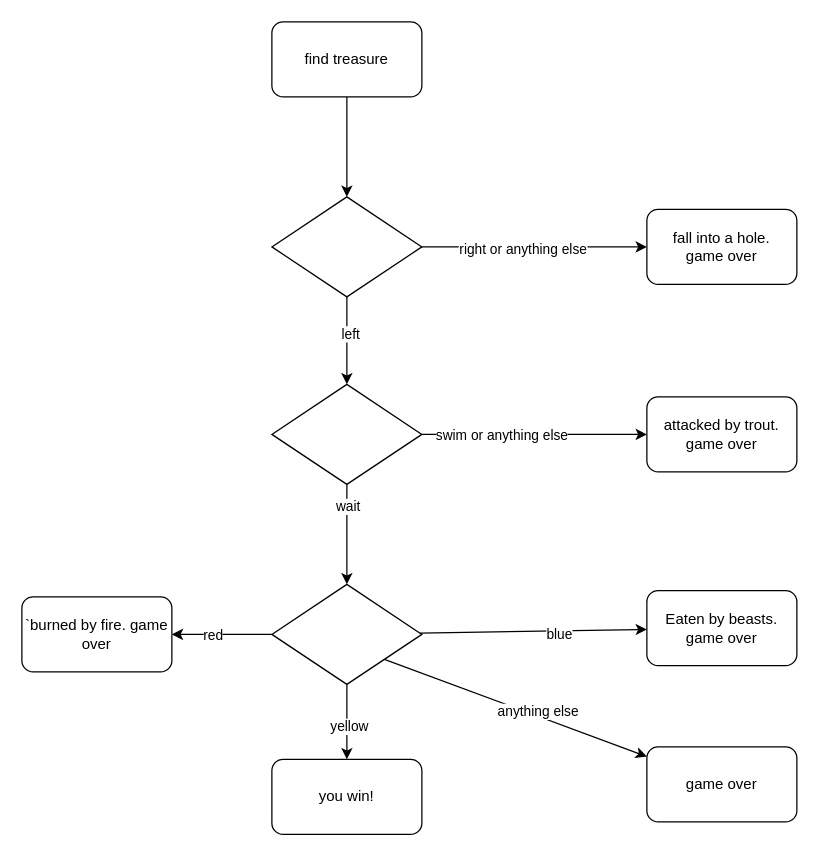
The diagram is 819 pixels wide and 856 high, and some of its shapes have lost their labels. The centre of each missing label's shape, as x and y in pixels:
"left or right ?" belongs at pixel 346 246.
"swim or wait?" belongs at pixel 346 433.
"which door?" belongs at pixel 346 633.
